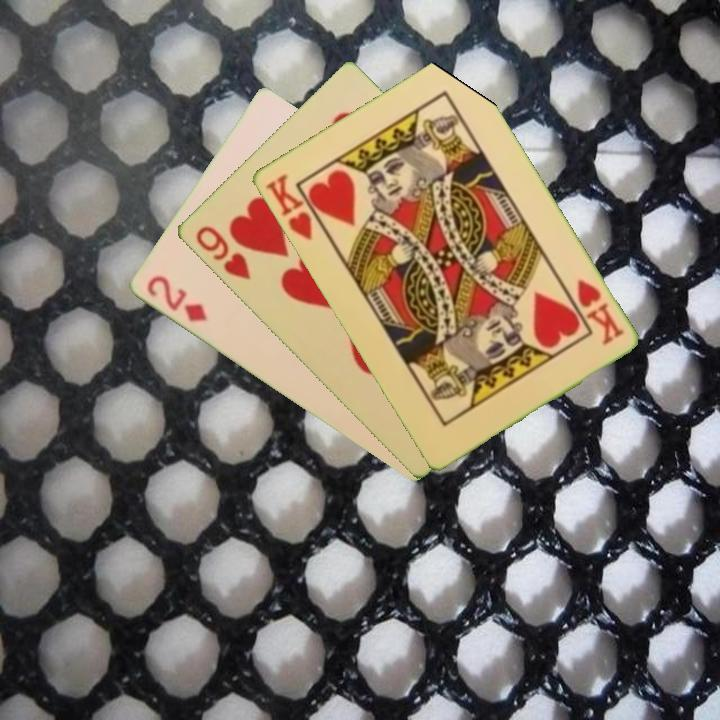2d: (142, 272, 210, 325)
9h: (191, 222, 253, 283)
Kh: (261, 170, 329, 243), (572, 275, 627, 348)
